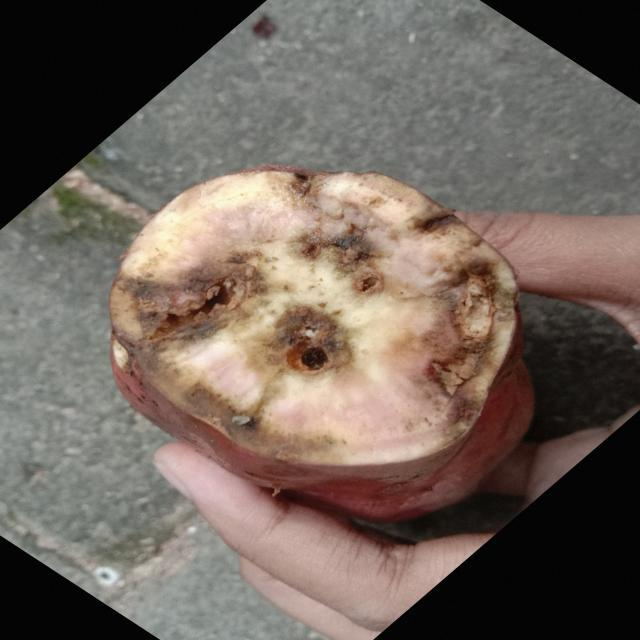Sick Sweet Potato_Tuber Rot: (110, 168, 532, 488)
